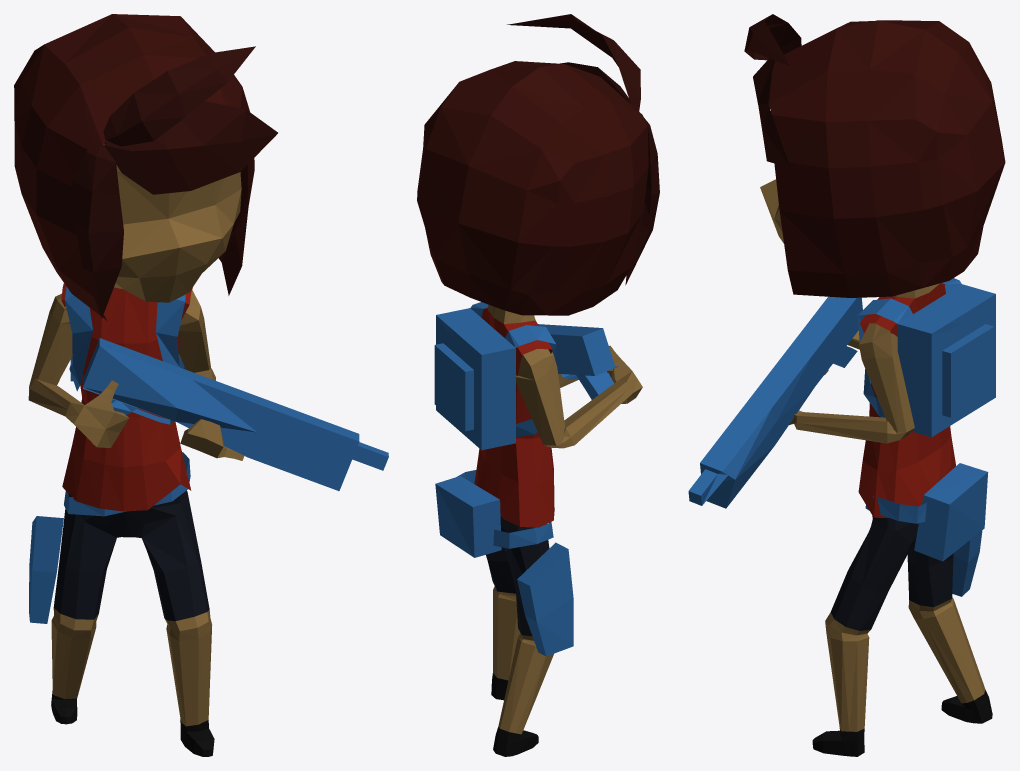
The model's file is low poly girl.obj.
3 renders of one model, left to right at view 1: azimuth 30°, elevation 25°; view 2: azimuth 150°, elevation 25°; view 3: azimuth 270°, elevation 25°, orthographic. The views are drawn at different scales.
Parts seen in each view (by area): view 1: Cube.010, Plane.001, Cube.008, Cube.006, Cube.011, Cube.007; view 2: Cube.010, Cube.006, Cube.007, Cube.011, Plane.001, Cube.008; view 3: Cube.010, Cube.006, Cube.008, Cube.007, Plane.001, Cube.011.
Part boxes in pixels (x1,y1,x2,y2): Cube.010: (14,14,254,756); Plane.001: (71,46,277,318); Cube.008: (82,338,388,490); Cube.006: (64,287,185,391); Cube.011: (29,516,63,623); Cube.007: (64,452,190,516); Cube.010: (417,61,648,756); Cube.006: (434,302,556,450); Cube.007: (435,470,553,557); Cube.011: (517,542,573,656); Plane.001: (507,14,659,285); Cube.008: (538,324,618,399); Cube.010: (760,20,1005,756); Cube.006: (857,278,995,437); Cube.008: (688,296,862,508); Cube.007: (865,463,988,561); Plane.001: (744,14,801,167); Cube.011: (952,530,982,596).
Bounding box in the file's own units: 5.32 × 13.84 × 5.55.
